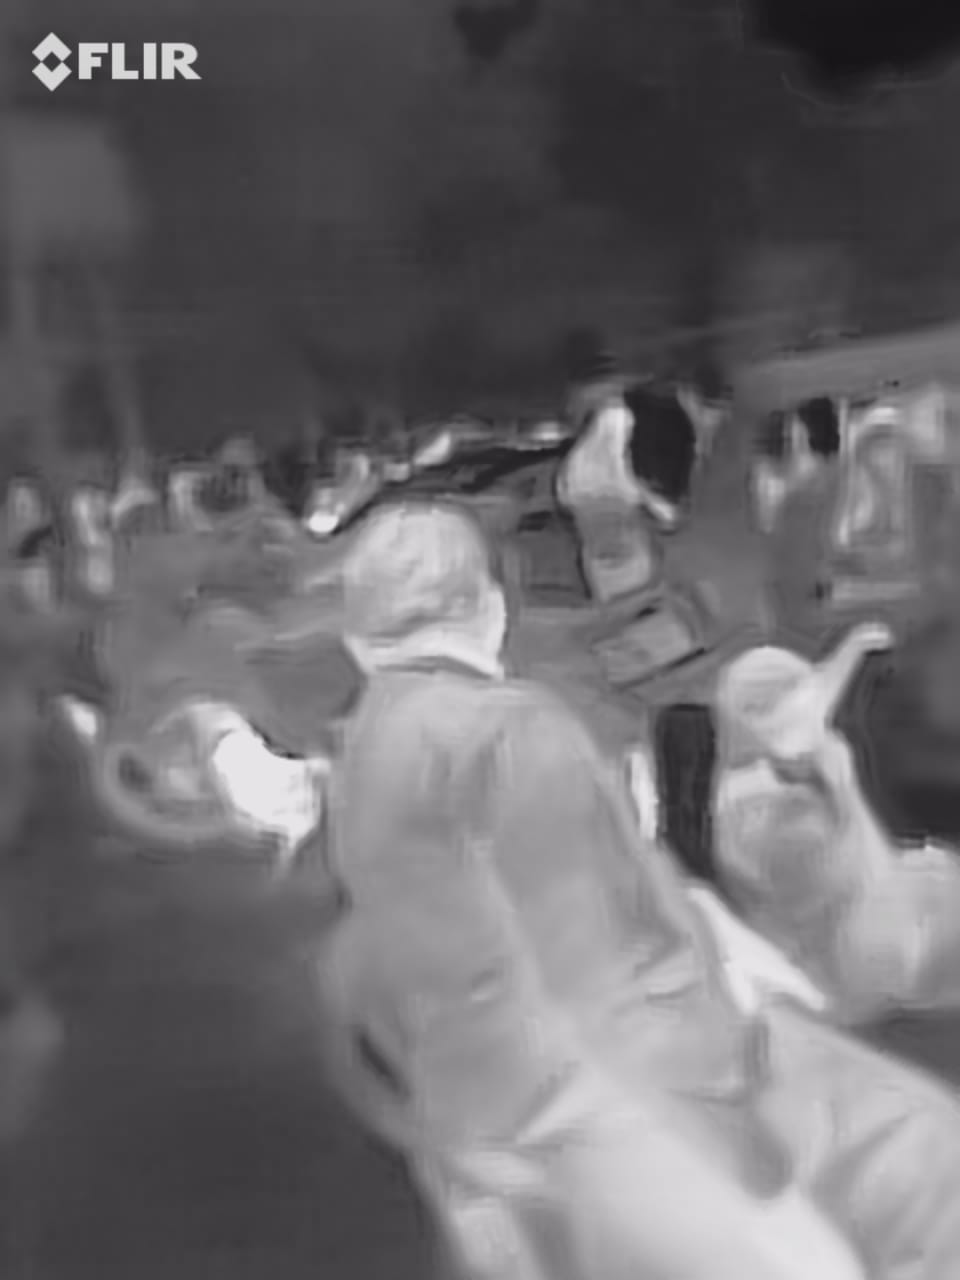head: (333, 498, 515, 713)
